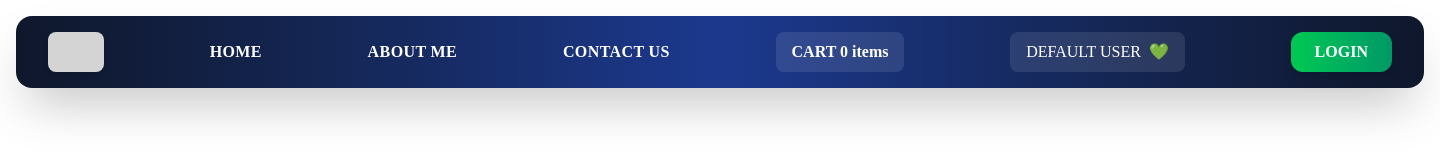
Test case: unit test cases Test › navbar renderng test login logout
Click the button "LOGIN" at (1341,52), box [1291,32,1392,72]
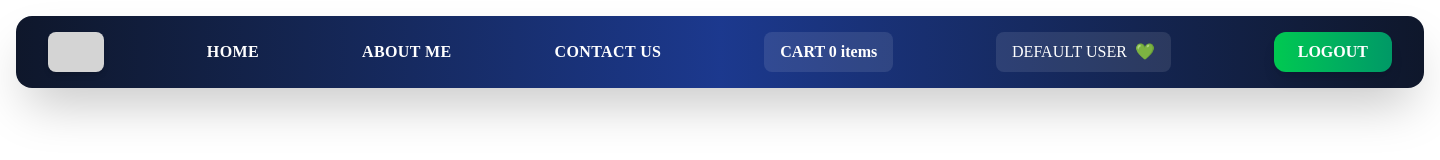
expect the button "LOGOUT" is shown: met, box [1274,32,1392,72]
